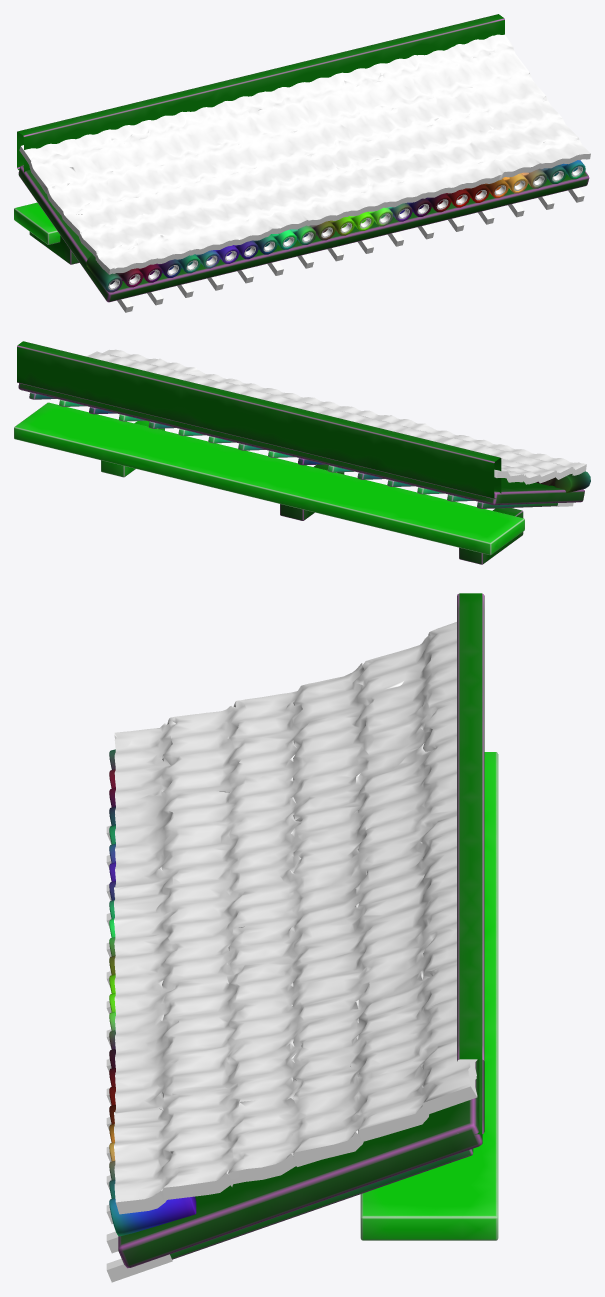
Rendered from overhang_side_400_01.fbx.
The picture shows the model from 3 angles, top to bottom: view 1: azimuth 30°, elevation 25°; view 2: azimuth 150°, elevation 25°; view 3: azimuth 270°, elevation 25°; orthographic projection. The views are drawn at different scales.
Parts seen in each view (by area): view 1: overhang_side_400_01; view 2: overhang_side_400_01; view 3: overhang_side_400_01.
Boxes of the visible parts, bbox=[...] form: overhang_side_400_01: bbox=[14, 14, 590, 312]; overhang_side_400_01: bbox=[14, 341, 590, 564]; overhang_side_400_01: bbox=[106, 593, 498, 1282].
Size of the model in its own units: 4.04 by 0.9271 by 1.42.
